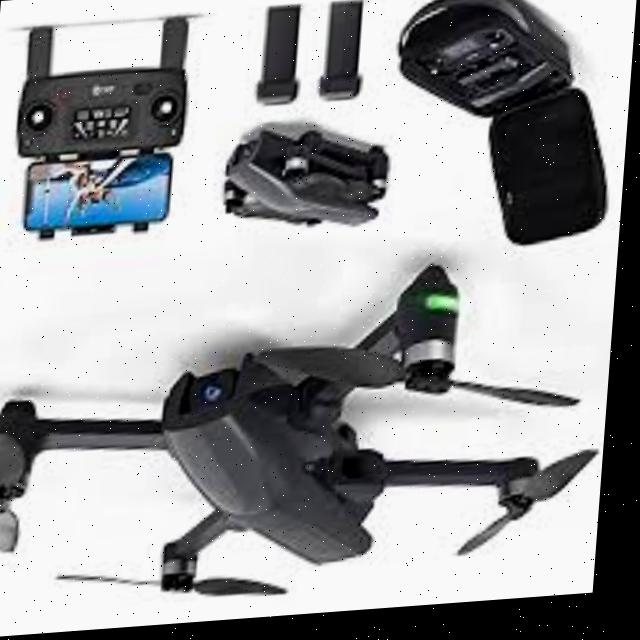drone: (0, 255, 623, 640)
